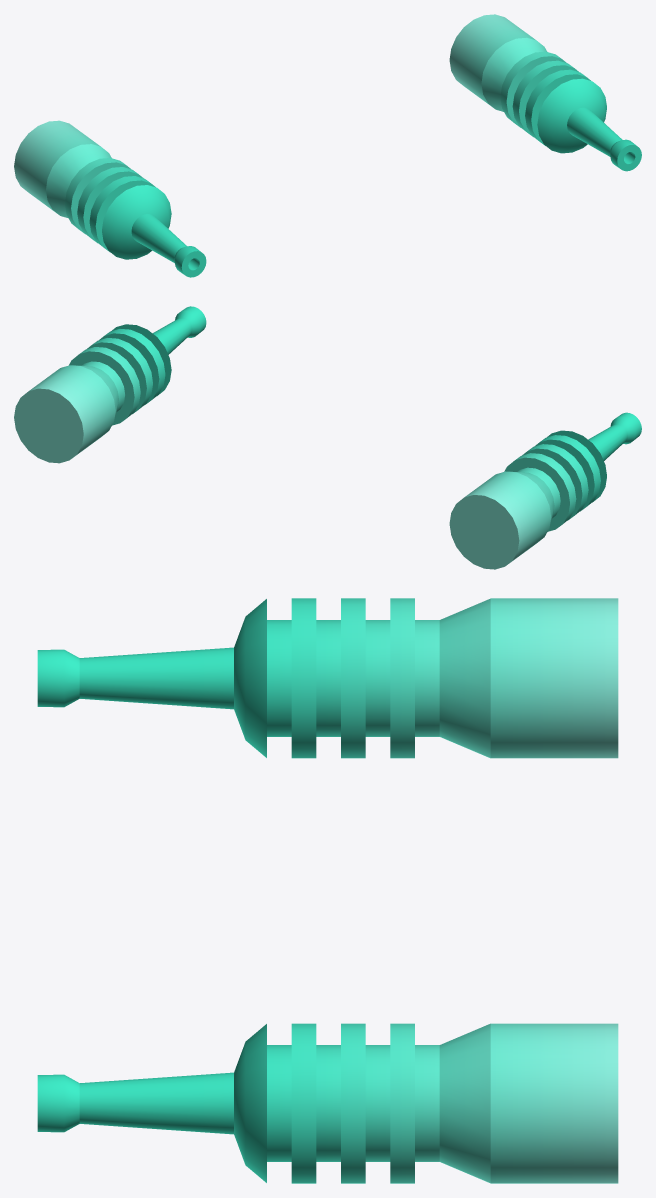
File: Lazers Coloured Solo.fbx
3 views of the same model, one above another, from view 1: azimuth 30°, elevation 25°; view 2: azimuth 150°, elevation 25°; view 3: azimuth 270°, elevation 25° (orthographic). The views are drawn at different scales.
Visible parts, largest first — view 1: Lazers; view 2: Lazers; view 3: Lazers.
Boxes of the visible parts, bbox=[...] form: Lazers: bbox=[14, 14, 641, 277]; Lazers: bbox=[14, 306, 641, 569]; Lazers: bbox=[37, 598, 618, 1183].
Size of the model in its own units: 315 by 43.53 by 157.
1 material, 1 textured.
